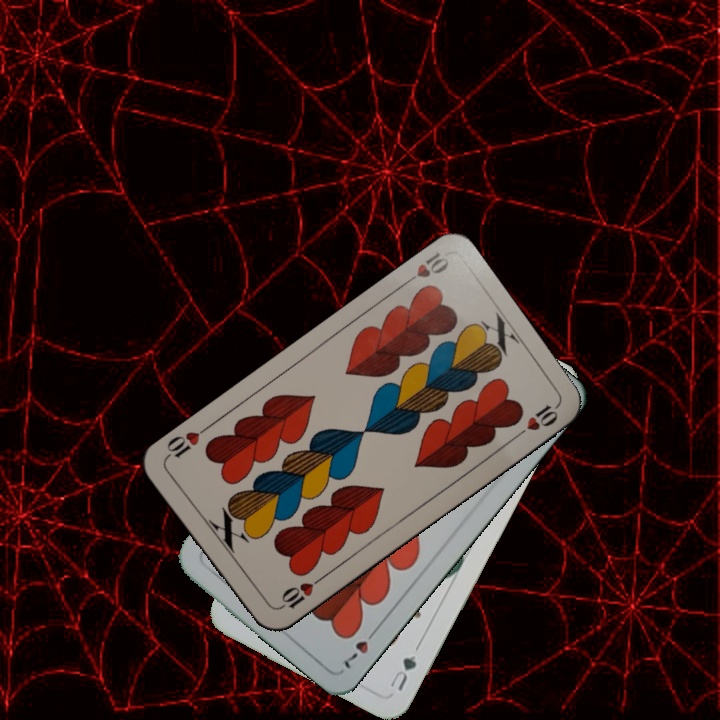GU: (386, 651, 419, 694)
H10: (398, 247, 452, 289), (273, 573, 325, 613)
H7: (339, 622, 382, 672)
